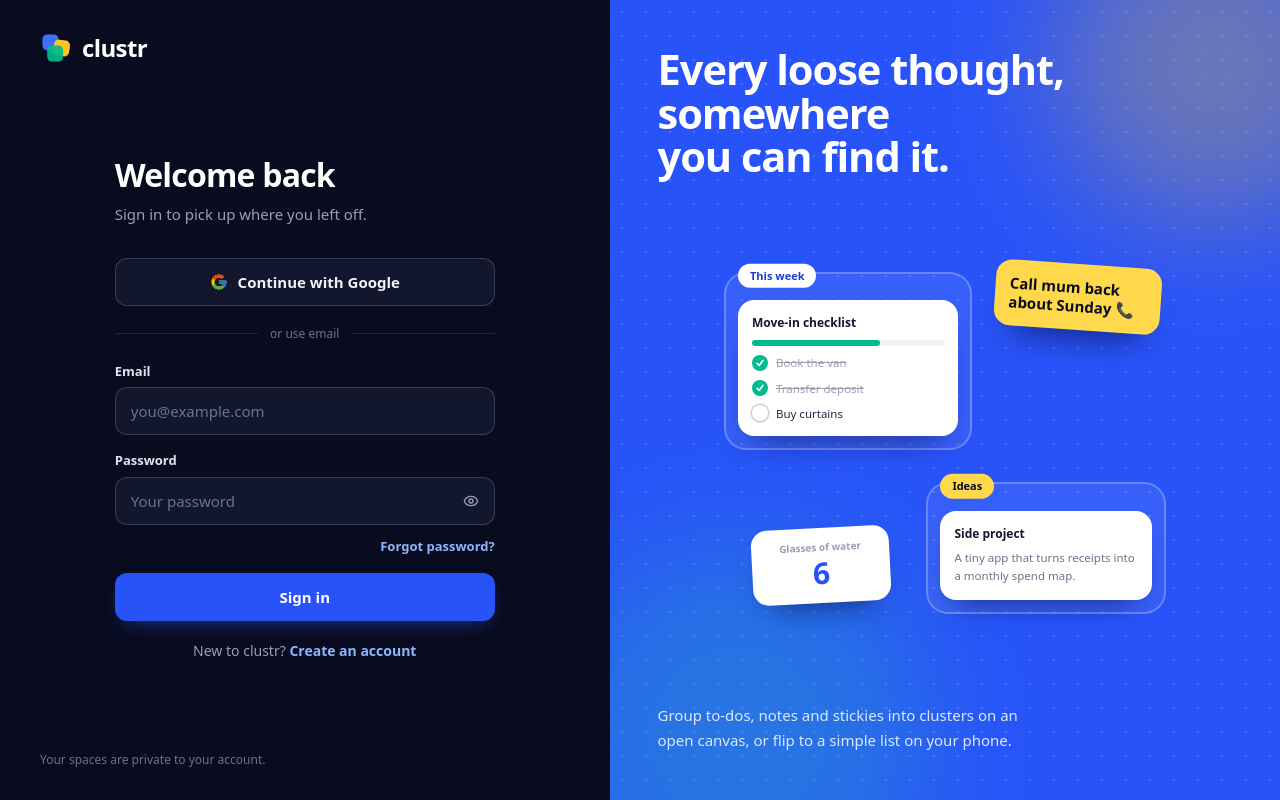
sign-in guard › shows the error for wrong credentials and stays on the form
This screenshot has width=1280, height=800.
Type "me@example.test" into the field labelled "Email" at (305, 411), box [115,387,495,435]
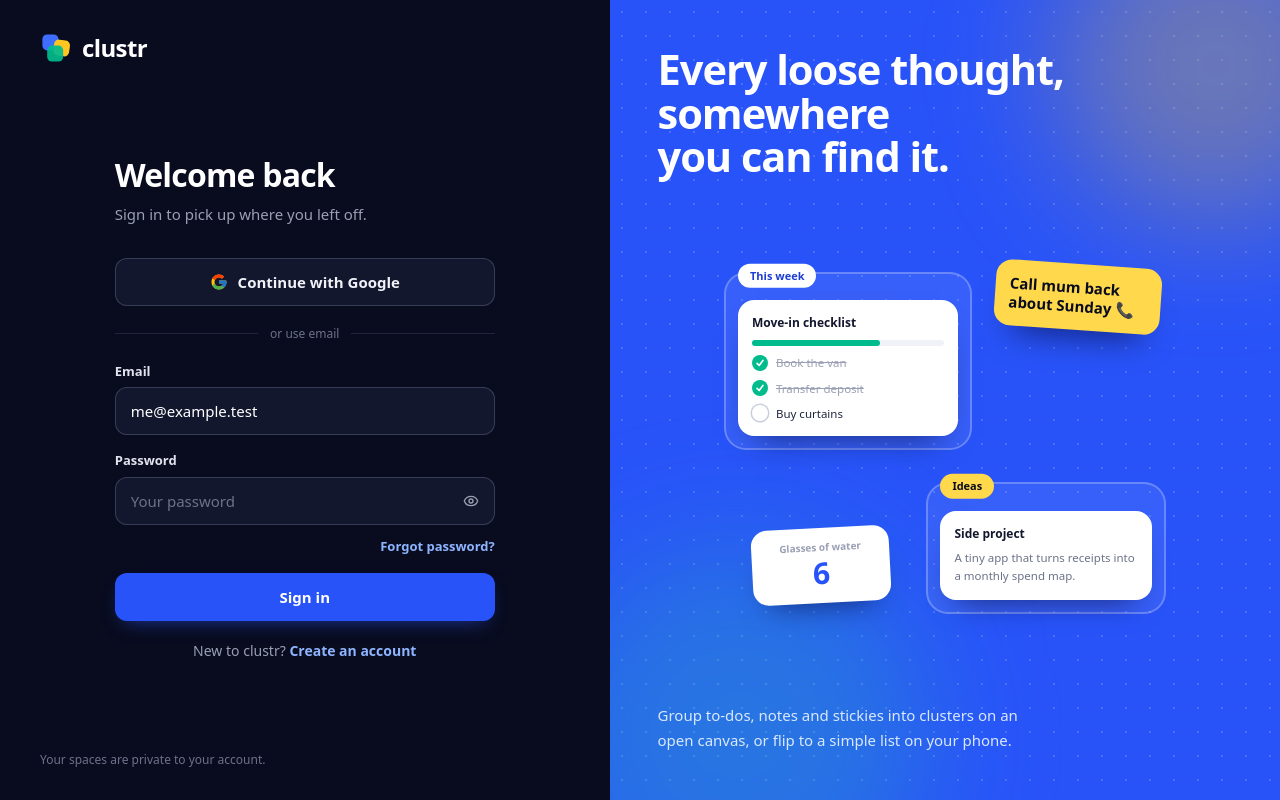
Type "wrong" into the password field labelled "Password" at (305, 501), box [115,477,495,525]
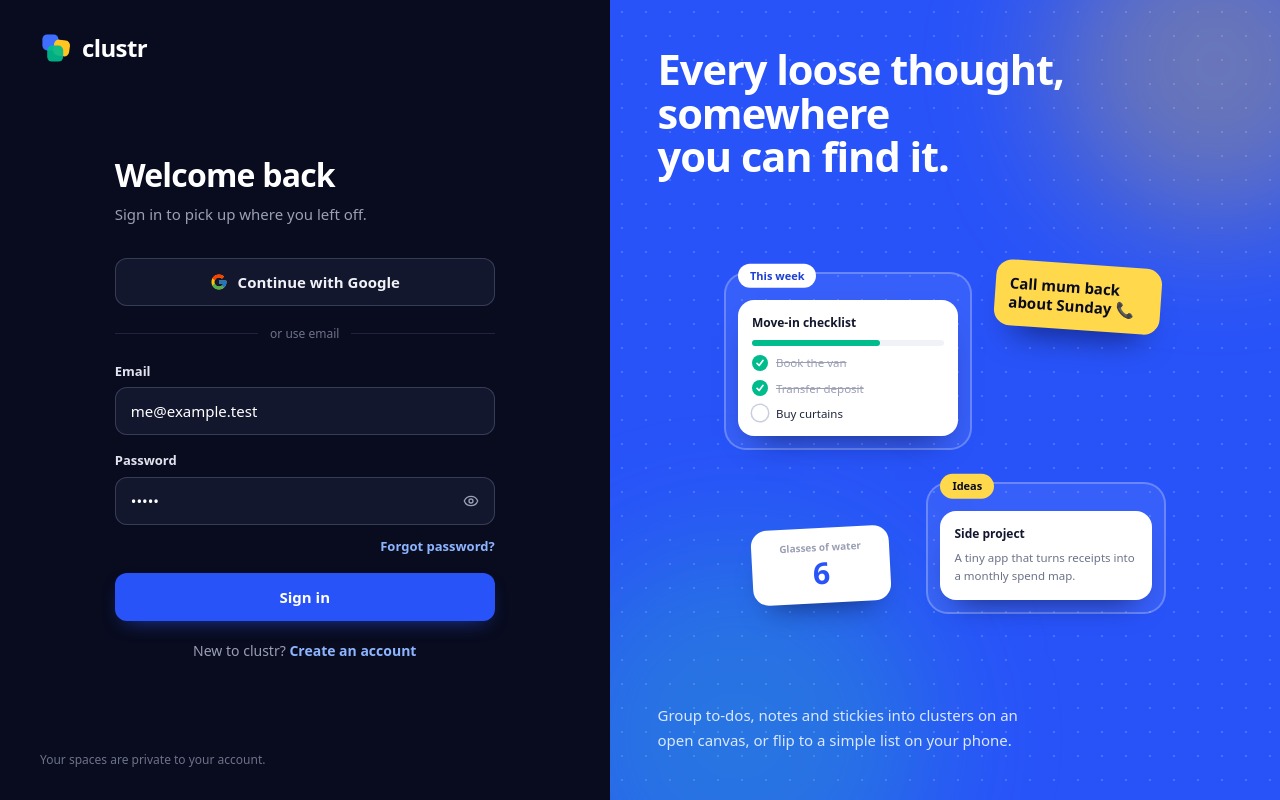
Click the button "Sign in" at (305, 597), box [115,573,495,621]
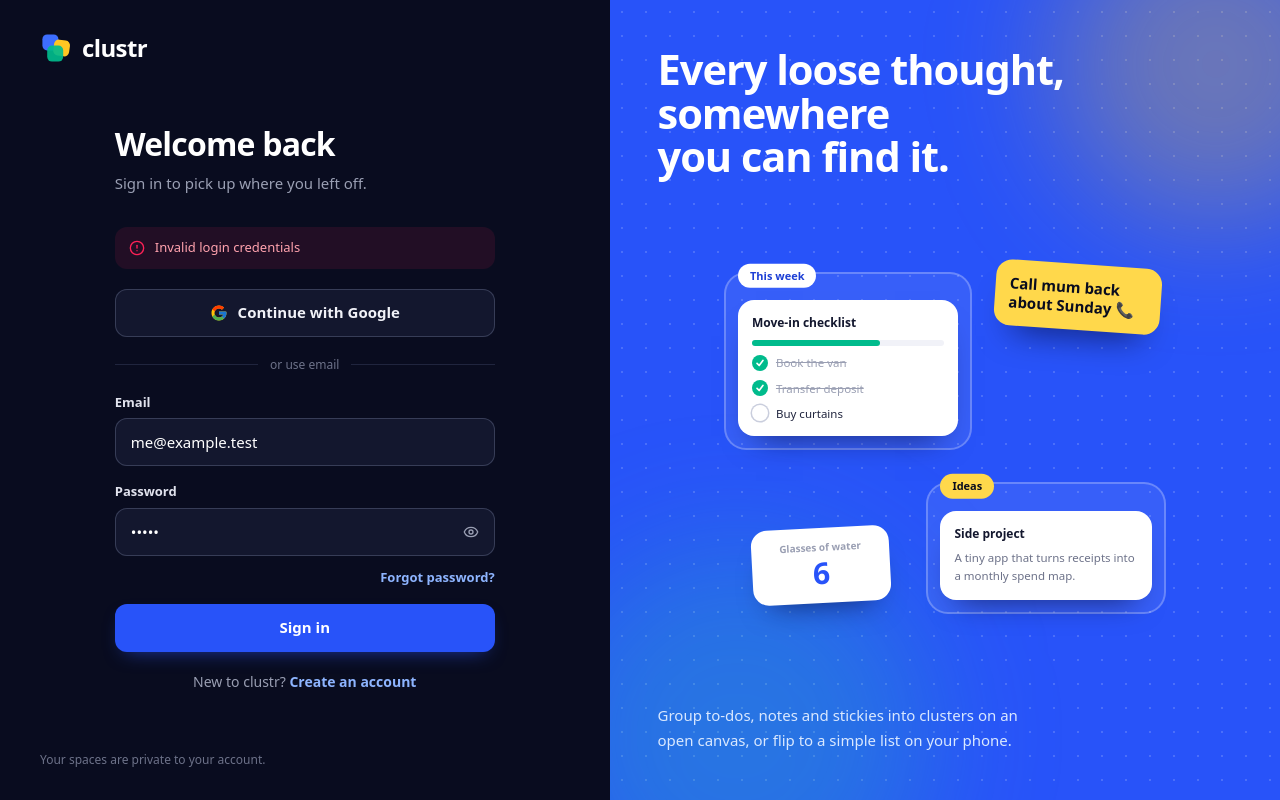
Now the text "Invalid login credentials" is shown, box [155,239,300,257]
